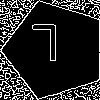L: (30, 25, 60, 70)
